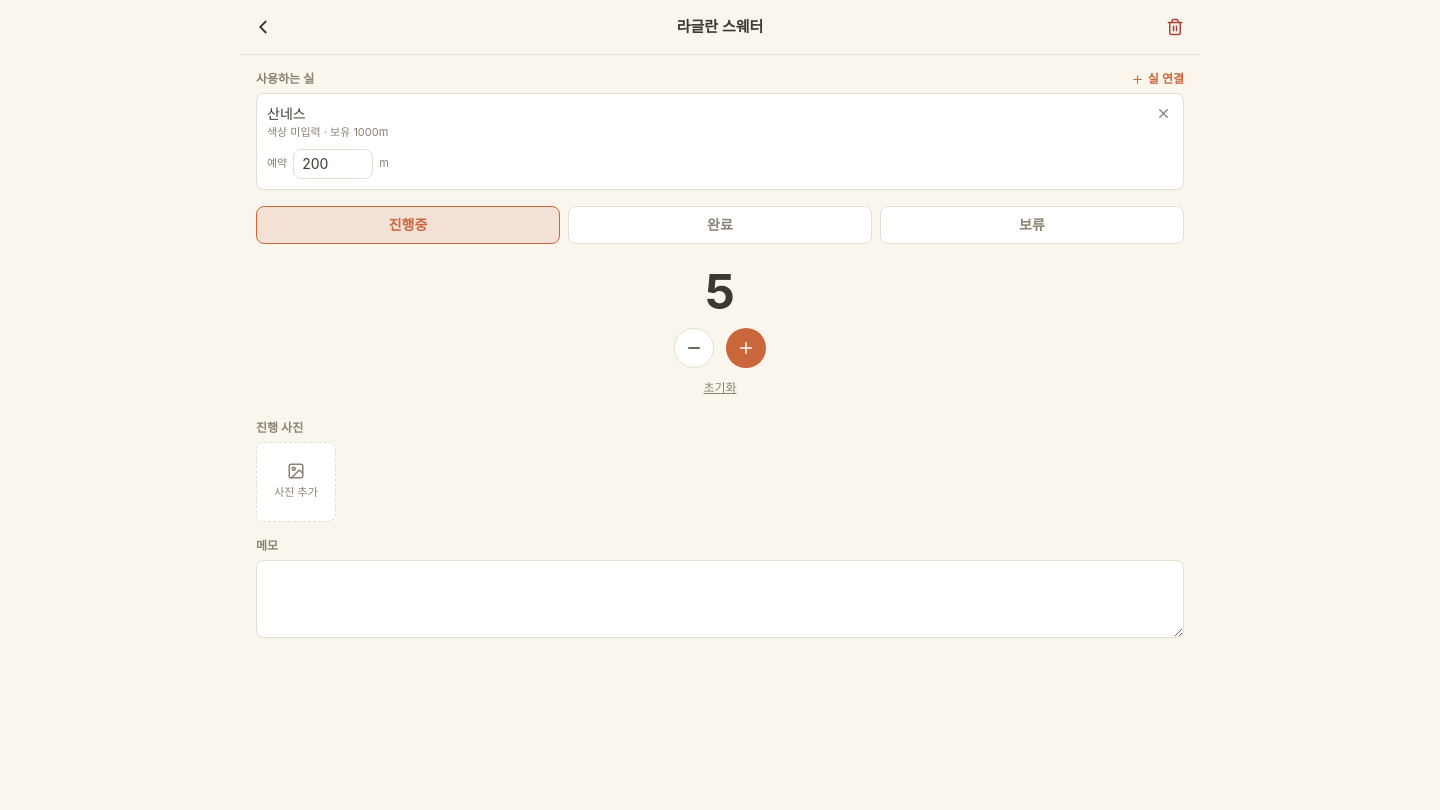
Test: ProjectDetailPage 완료 처리 › 확정 안 된 실이 있으면 예약량을 기본값으로 실사용량을 받아 함께 저장한다
Expected: the text "산네스" is shown, x1=267 y1=105 x2=306 y2=122
Click the button "완료" at (720, 224), box x1=568 y1=206 x2=872 y2=244
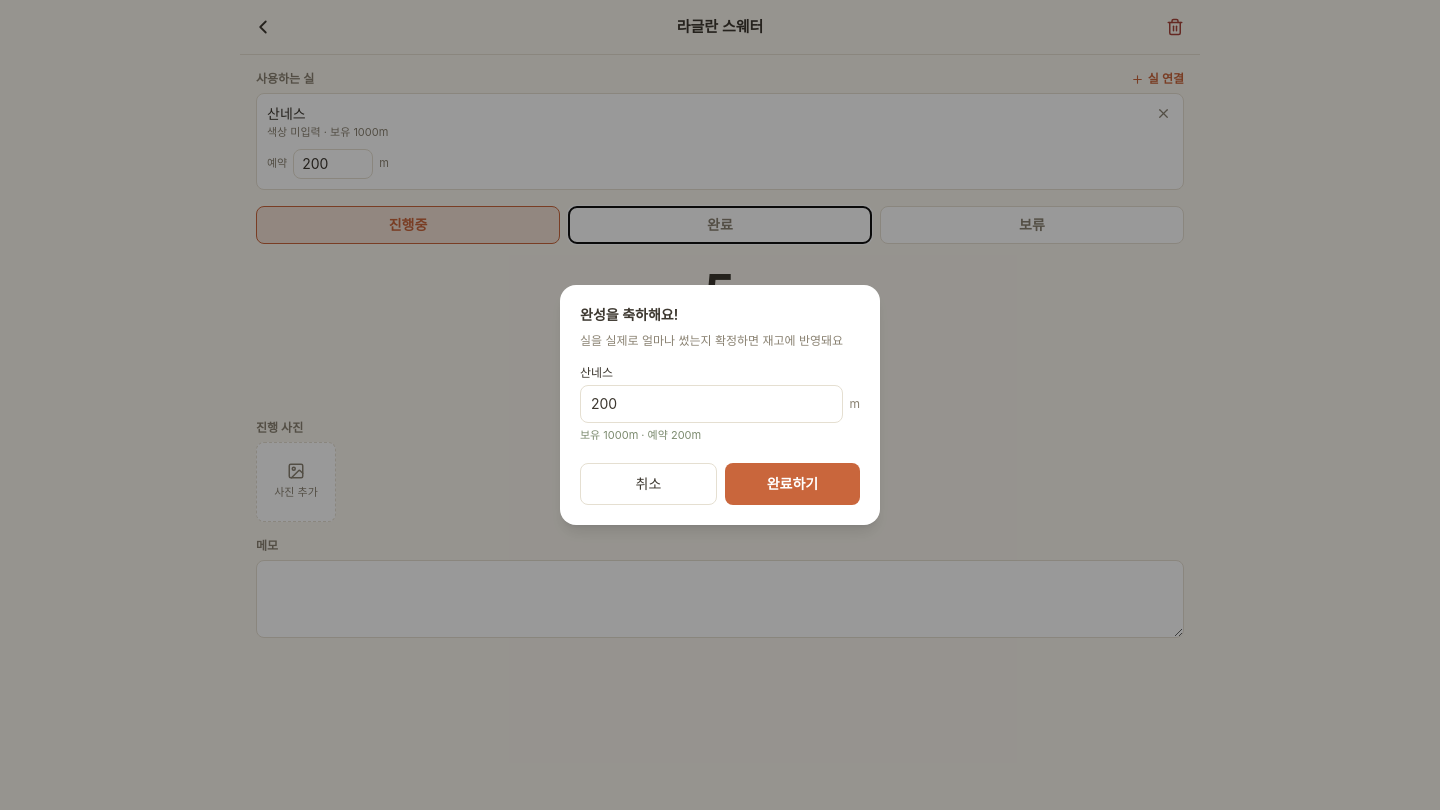
Now the number field holds "200"
Replace the text in the number field with "180" at (712, 404), box x1=580 y1=385 x2=844 y2=423
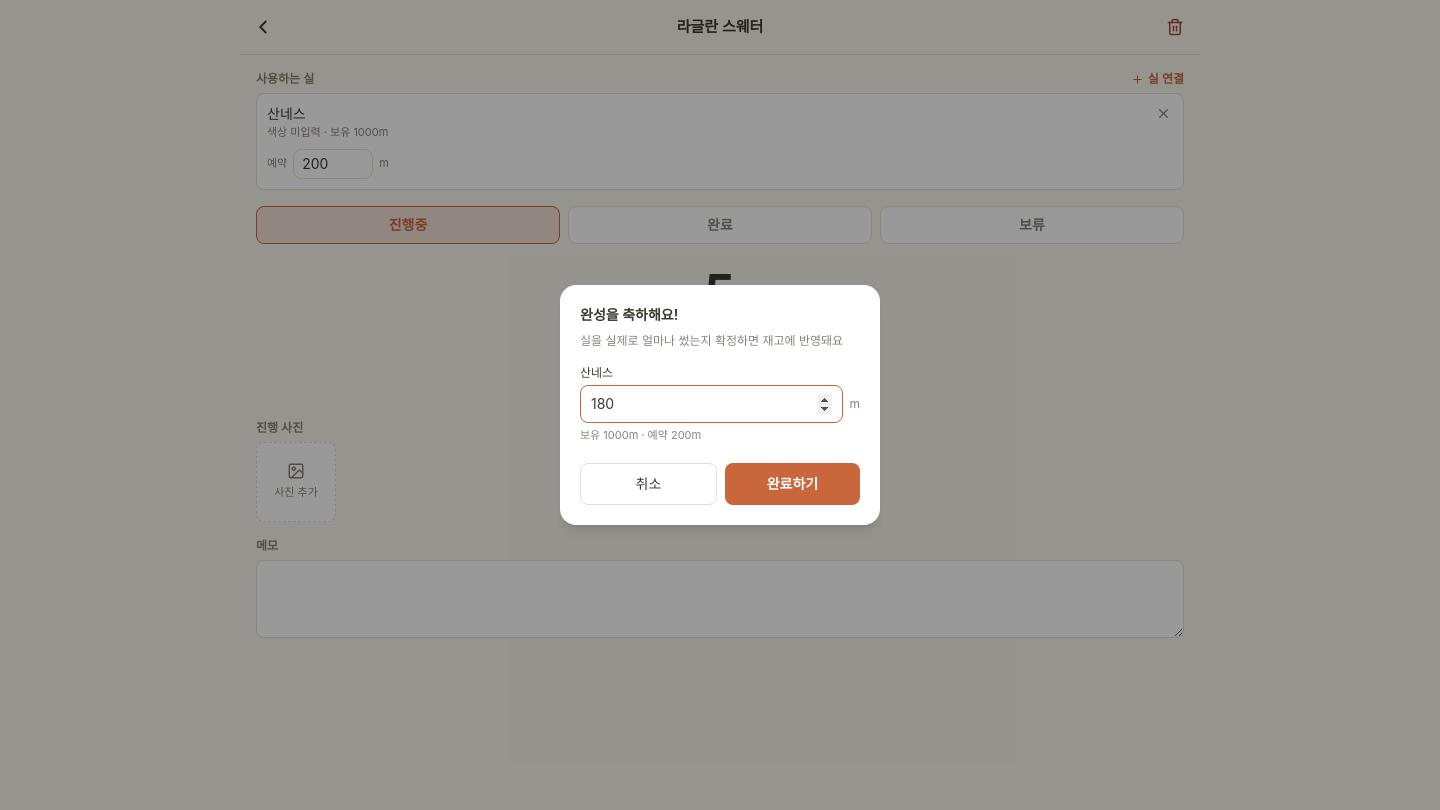
Click the button "완료하기" at (792, 484), box x1=725 y1=463 x2=860 y2=505
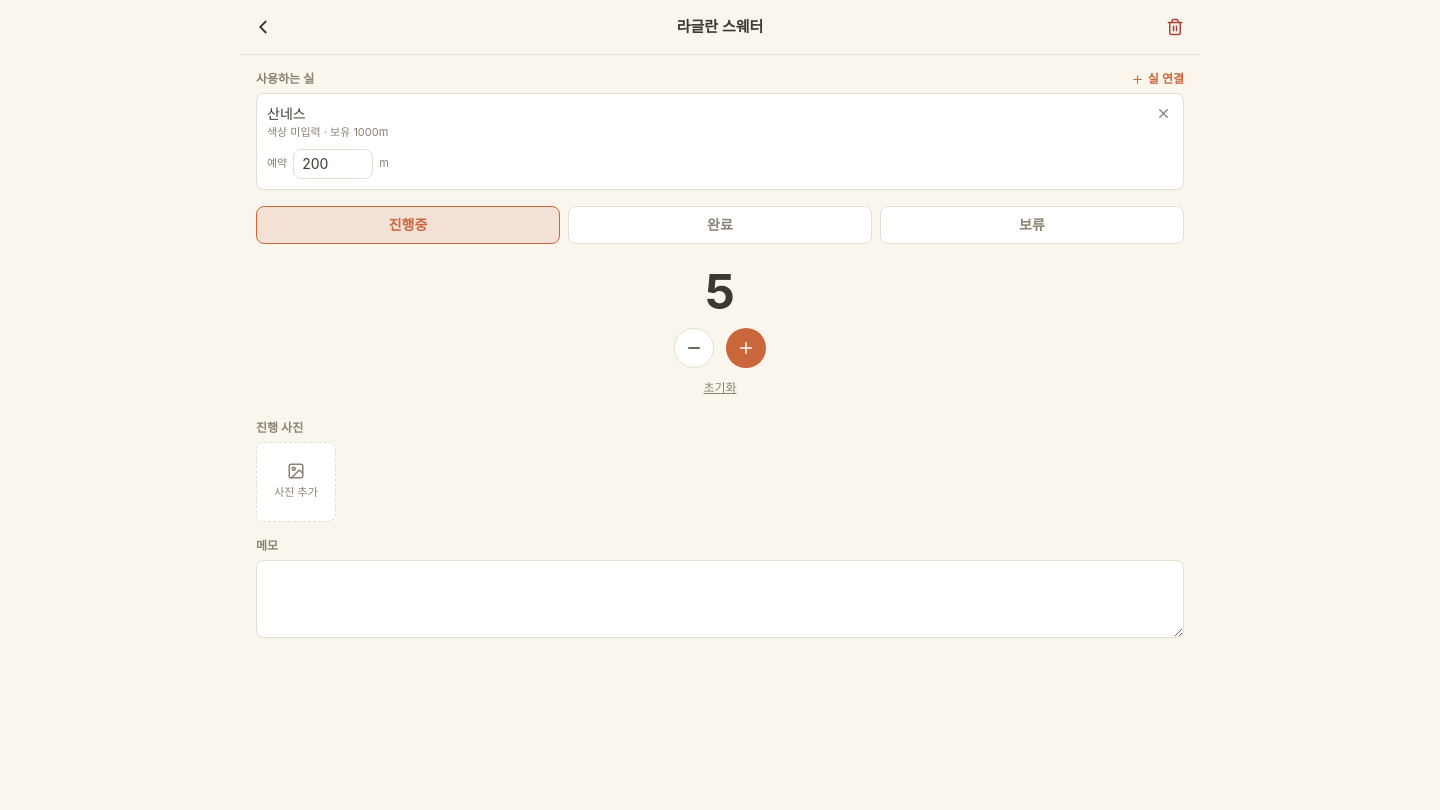
Now the text "완성을 축하해요!" is gone
